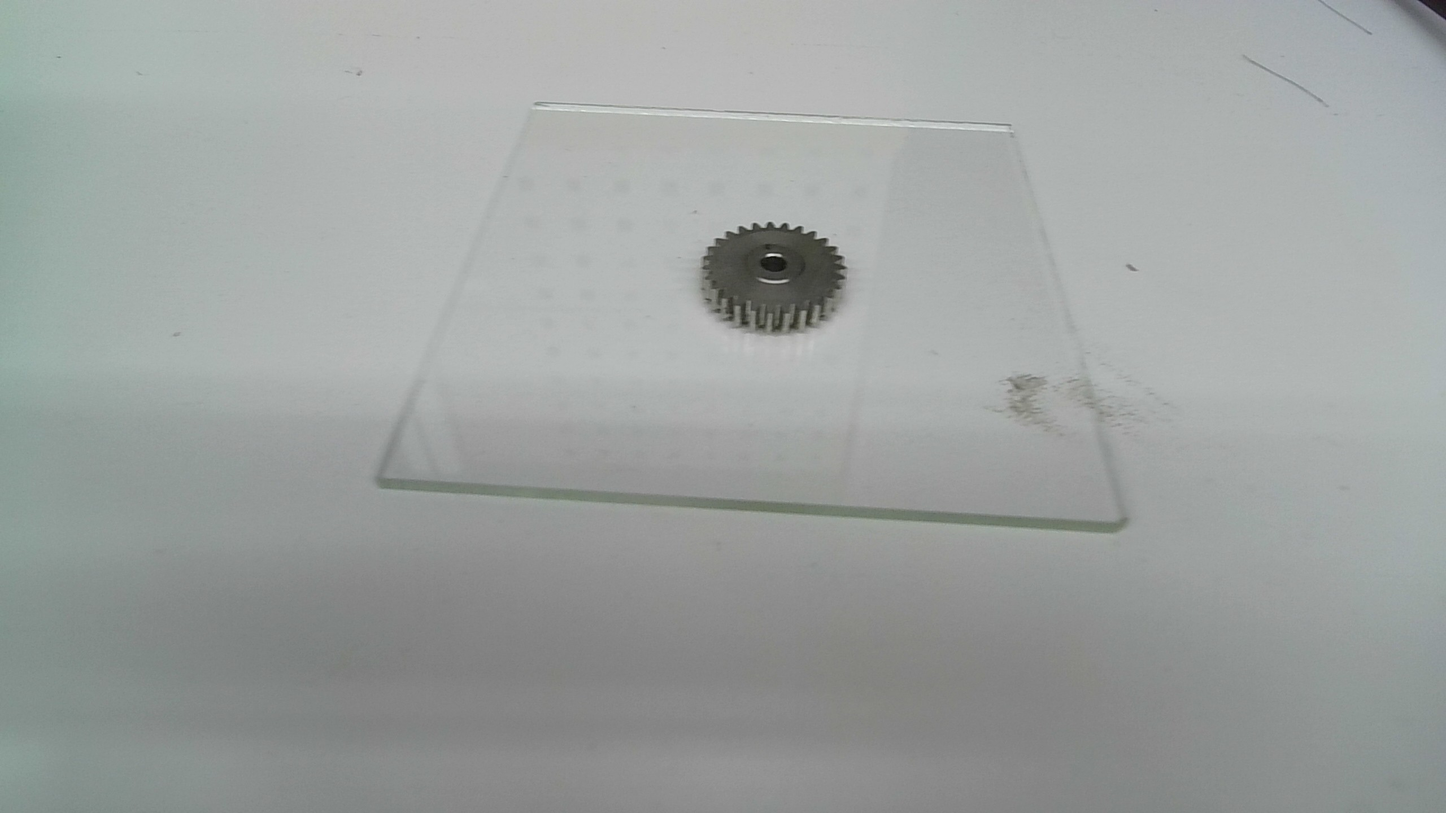gear: (701, 220, 855, 339)
